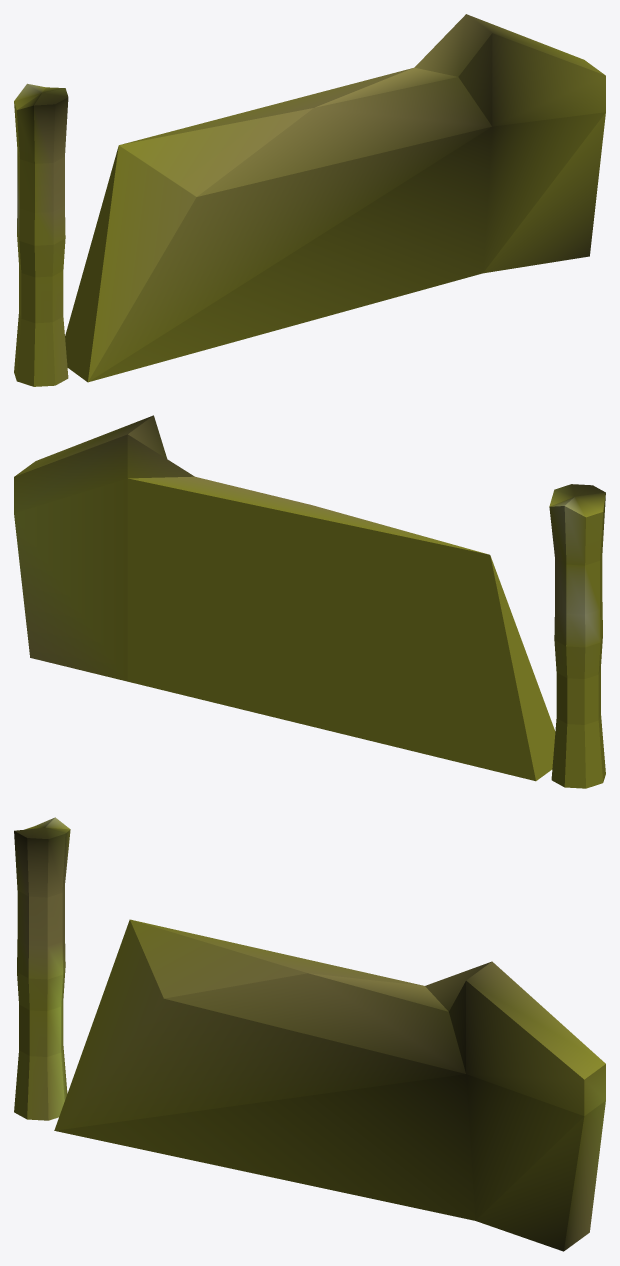
The model's file is ParededestruidaA.fbx.
3 views of the same model, one above another, from view 1: azimuth 30°, elevation 25°; view 2: azimuth 150°, elevation 25°; view 3: azimuth 330°, elevation 25° (orthographic).
Parts seen in each view (by area): view 1: LOD_0; view 2: LOD_0; view 3: LOD_0.
Boxes of the visible parts, <box> form: LOD_0: <box>14,14,605,386</box>; LOD_0: <box>14,415,605,788</box>; LOD_0: <box>14,817,605,1251</box>.
Size of what is drawn, in the model's own units: 1289 by 604 by 119.
